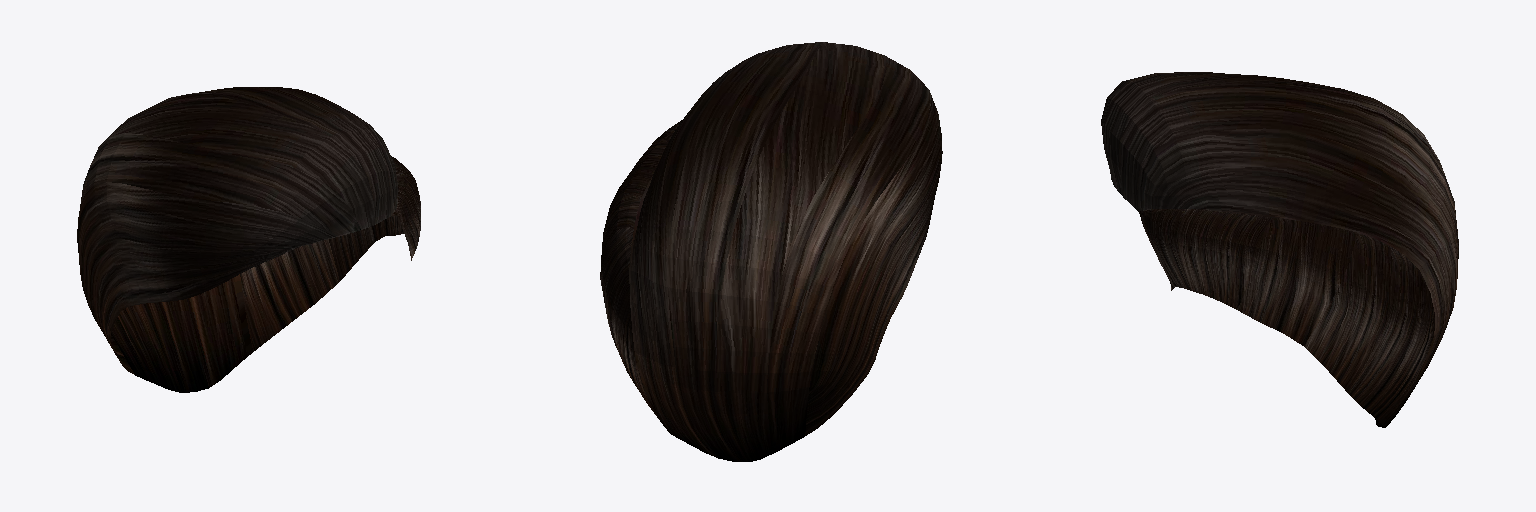
3 renders of one model, left to right at view 1: azimuth 30°, elevation 25°; view 2: azimuth 150°, elevation 25°; view 3: azimuth 270°, elevation 25°, orthographic.
Visible parts, largest first — view 1: hair_man; view 2: hair_man; view 3: hair_man.
Boxes of the visible parts, x1=… form: hair_man: x1=77, y1=87, x2=420, y2=392; hair_man: x1=600, y1=42, x2=942, y2=461; hair_man: x1=1101, y1=72, x2=1458, y2=427.
Size of the model in its own units: 0.1629 by 0.1972 by 0.1907.
1 materials, 1 textured.